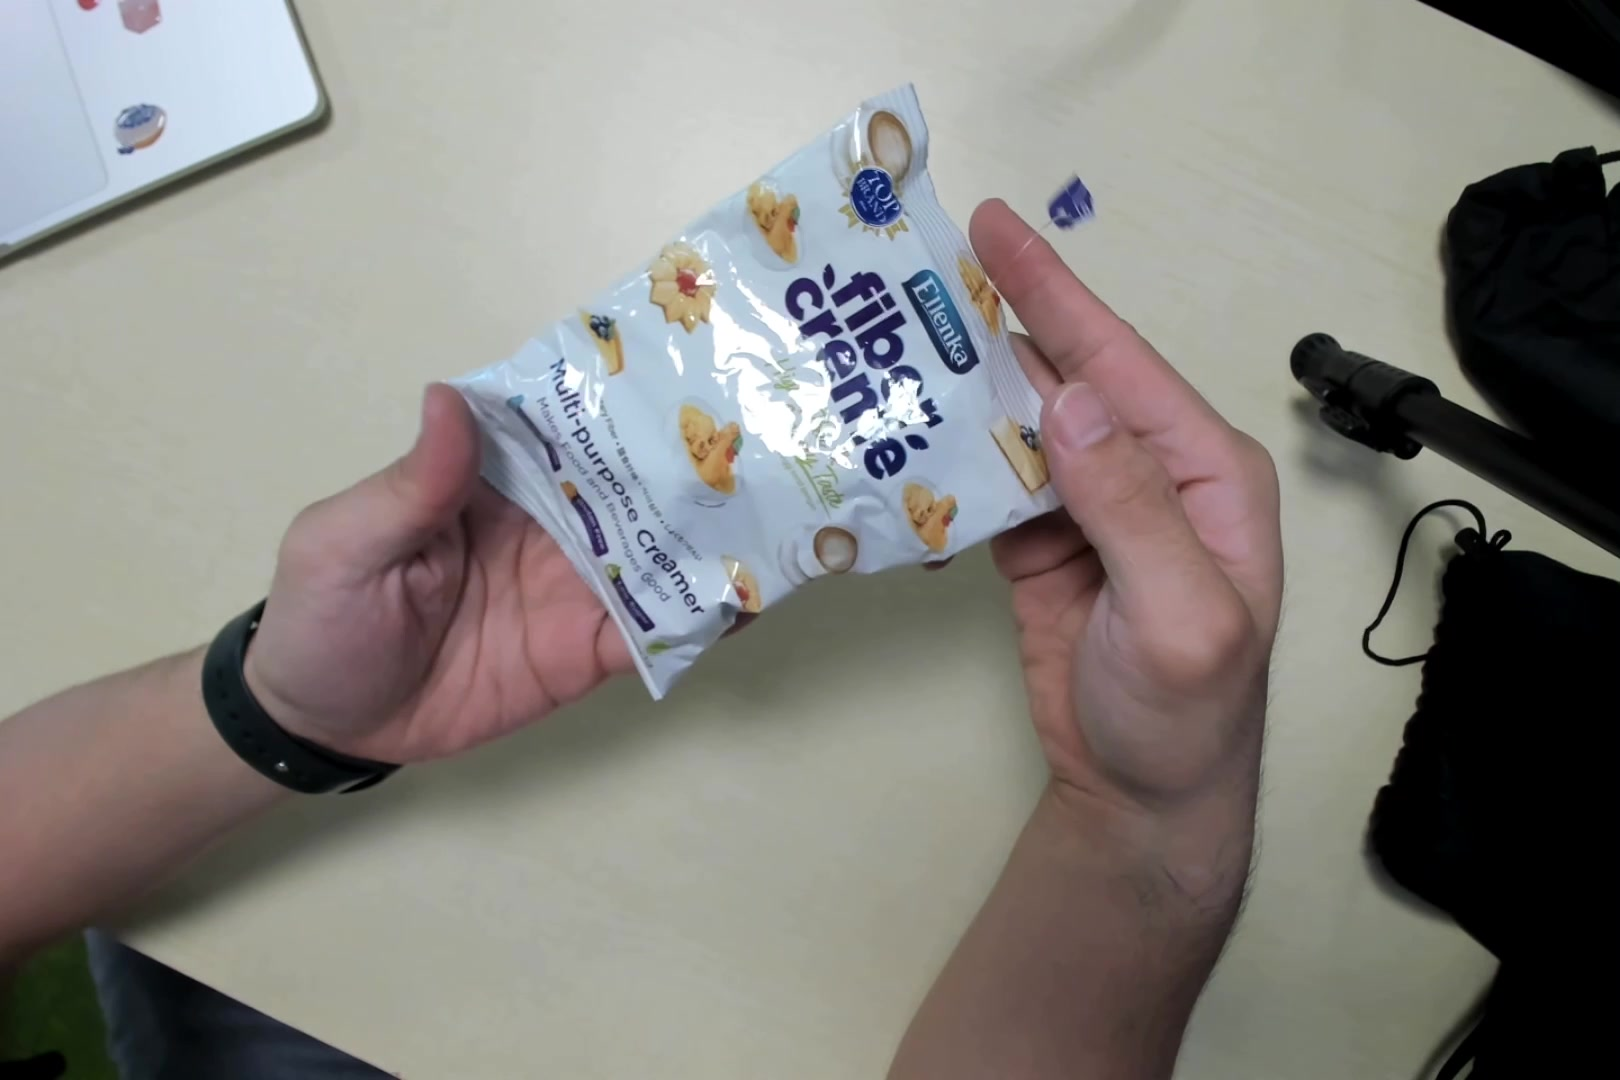OtherBakingNeeds_100-199g_Halal_NonHealthy: (446, 75, 1061, 695)
